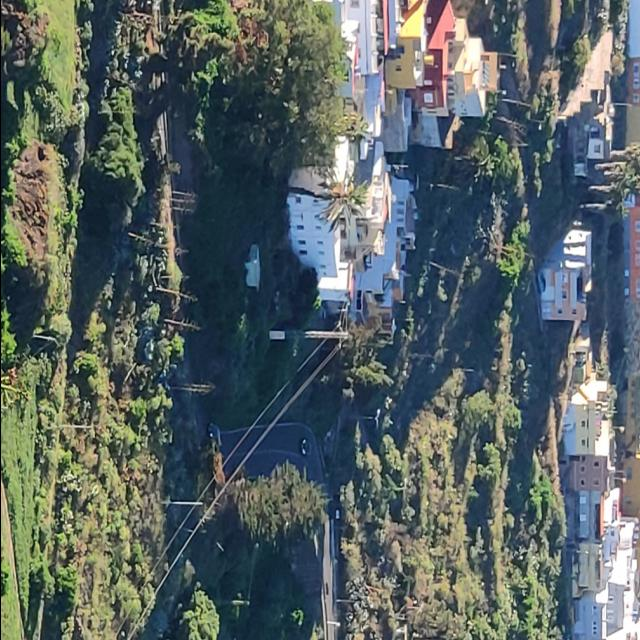Palm-Trees: (294, 165, 368, 231)
